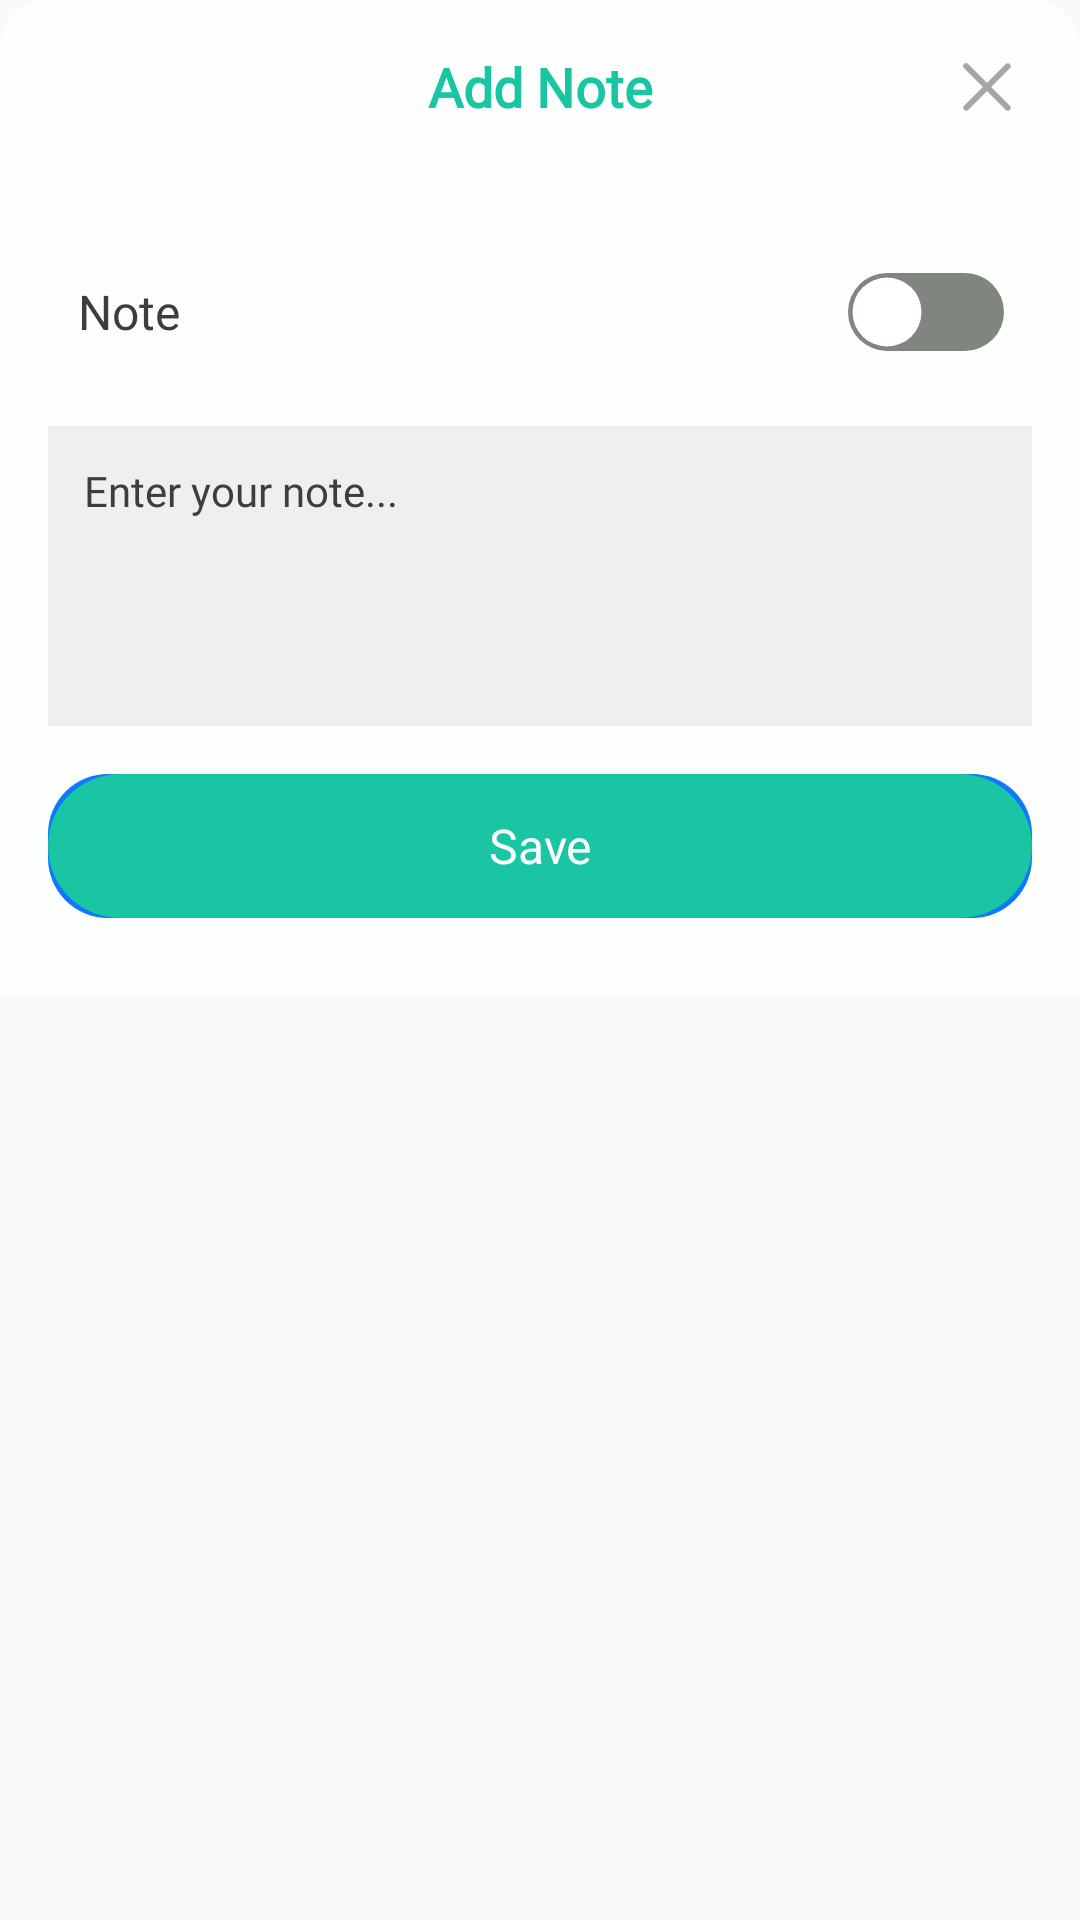

Icon click points for this 1080px x 1920px phone screenshot, format point (x, y):
cross: point (987, 87)
